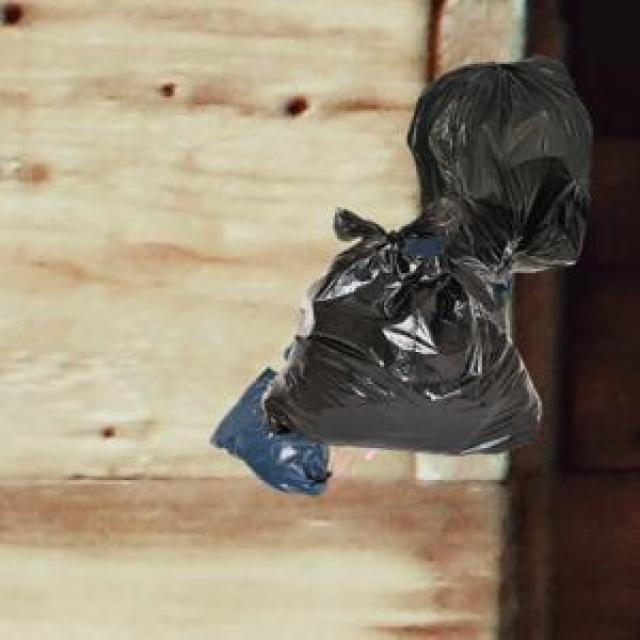Vinyl: (211, 62, 590, 494)
